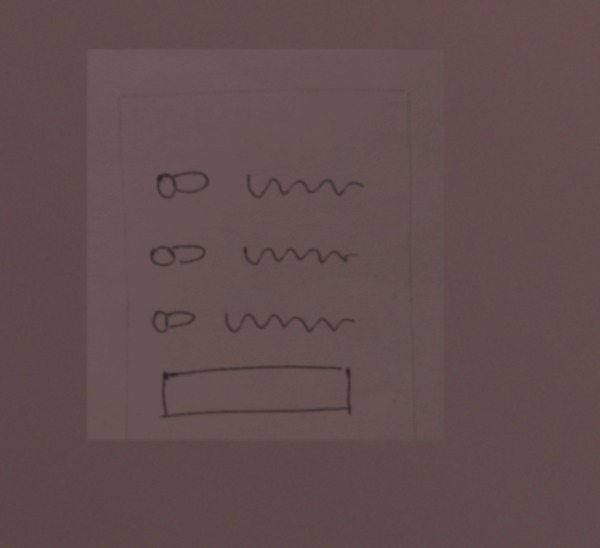switch: (141, 232, 211, 277), (139, 297, 205, 341), (152, 166, 216, 203)
text: (237, 164, 370, 208), (219, 302, 364, 339), (238, 235, 362, 273)
text_input: (148, 357, 368, 430)
